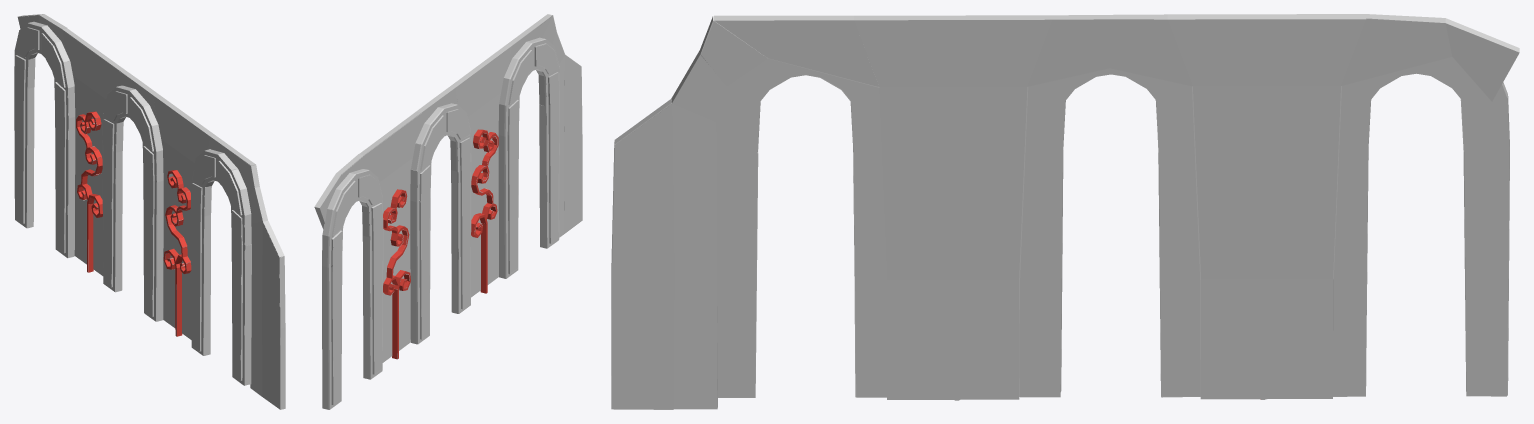
The model's file is RuinYzor.fbx.
3 views of the same model, side by side, from view 1: azimuth 30°, elevation 25°; view 2: azimuth 150°, elevation 25°; view 3: azimuth 270°, elevation 25° (orthographic). The views are drawn at different scales.
Parts seen in each view (by area): view 1: Plane; view 2: Plane; view 3: Plane.
Part boxes in pixels (x1=…): Plane: x1=14, y1=14, x2=285, y2=409; Plane: x1=314, y1=14, x2=582, y2=409; Plane: x1=611, y1=14, x2=1519, y2=409.
Bounding box in the file's own units: 47.72 × 654 × 1380.
